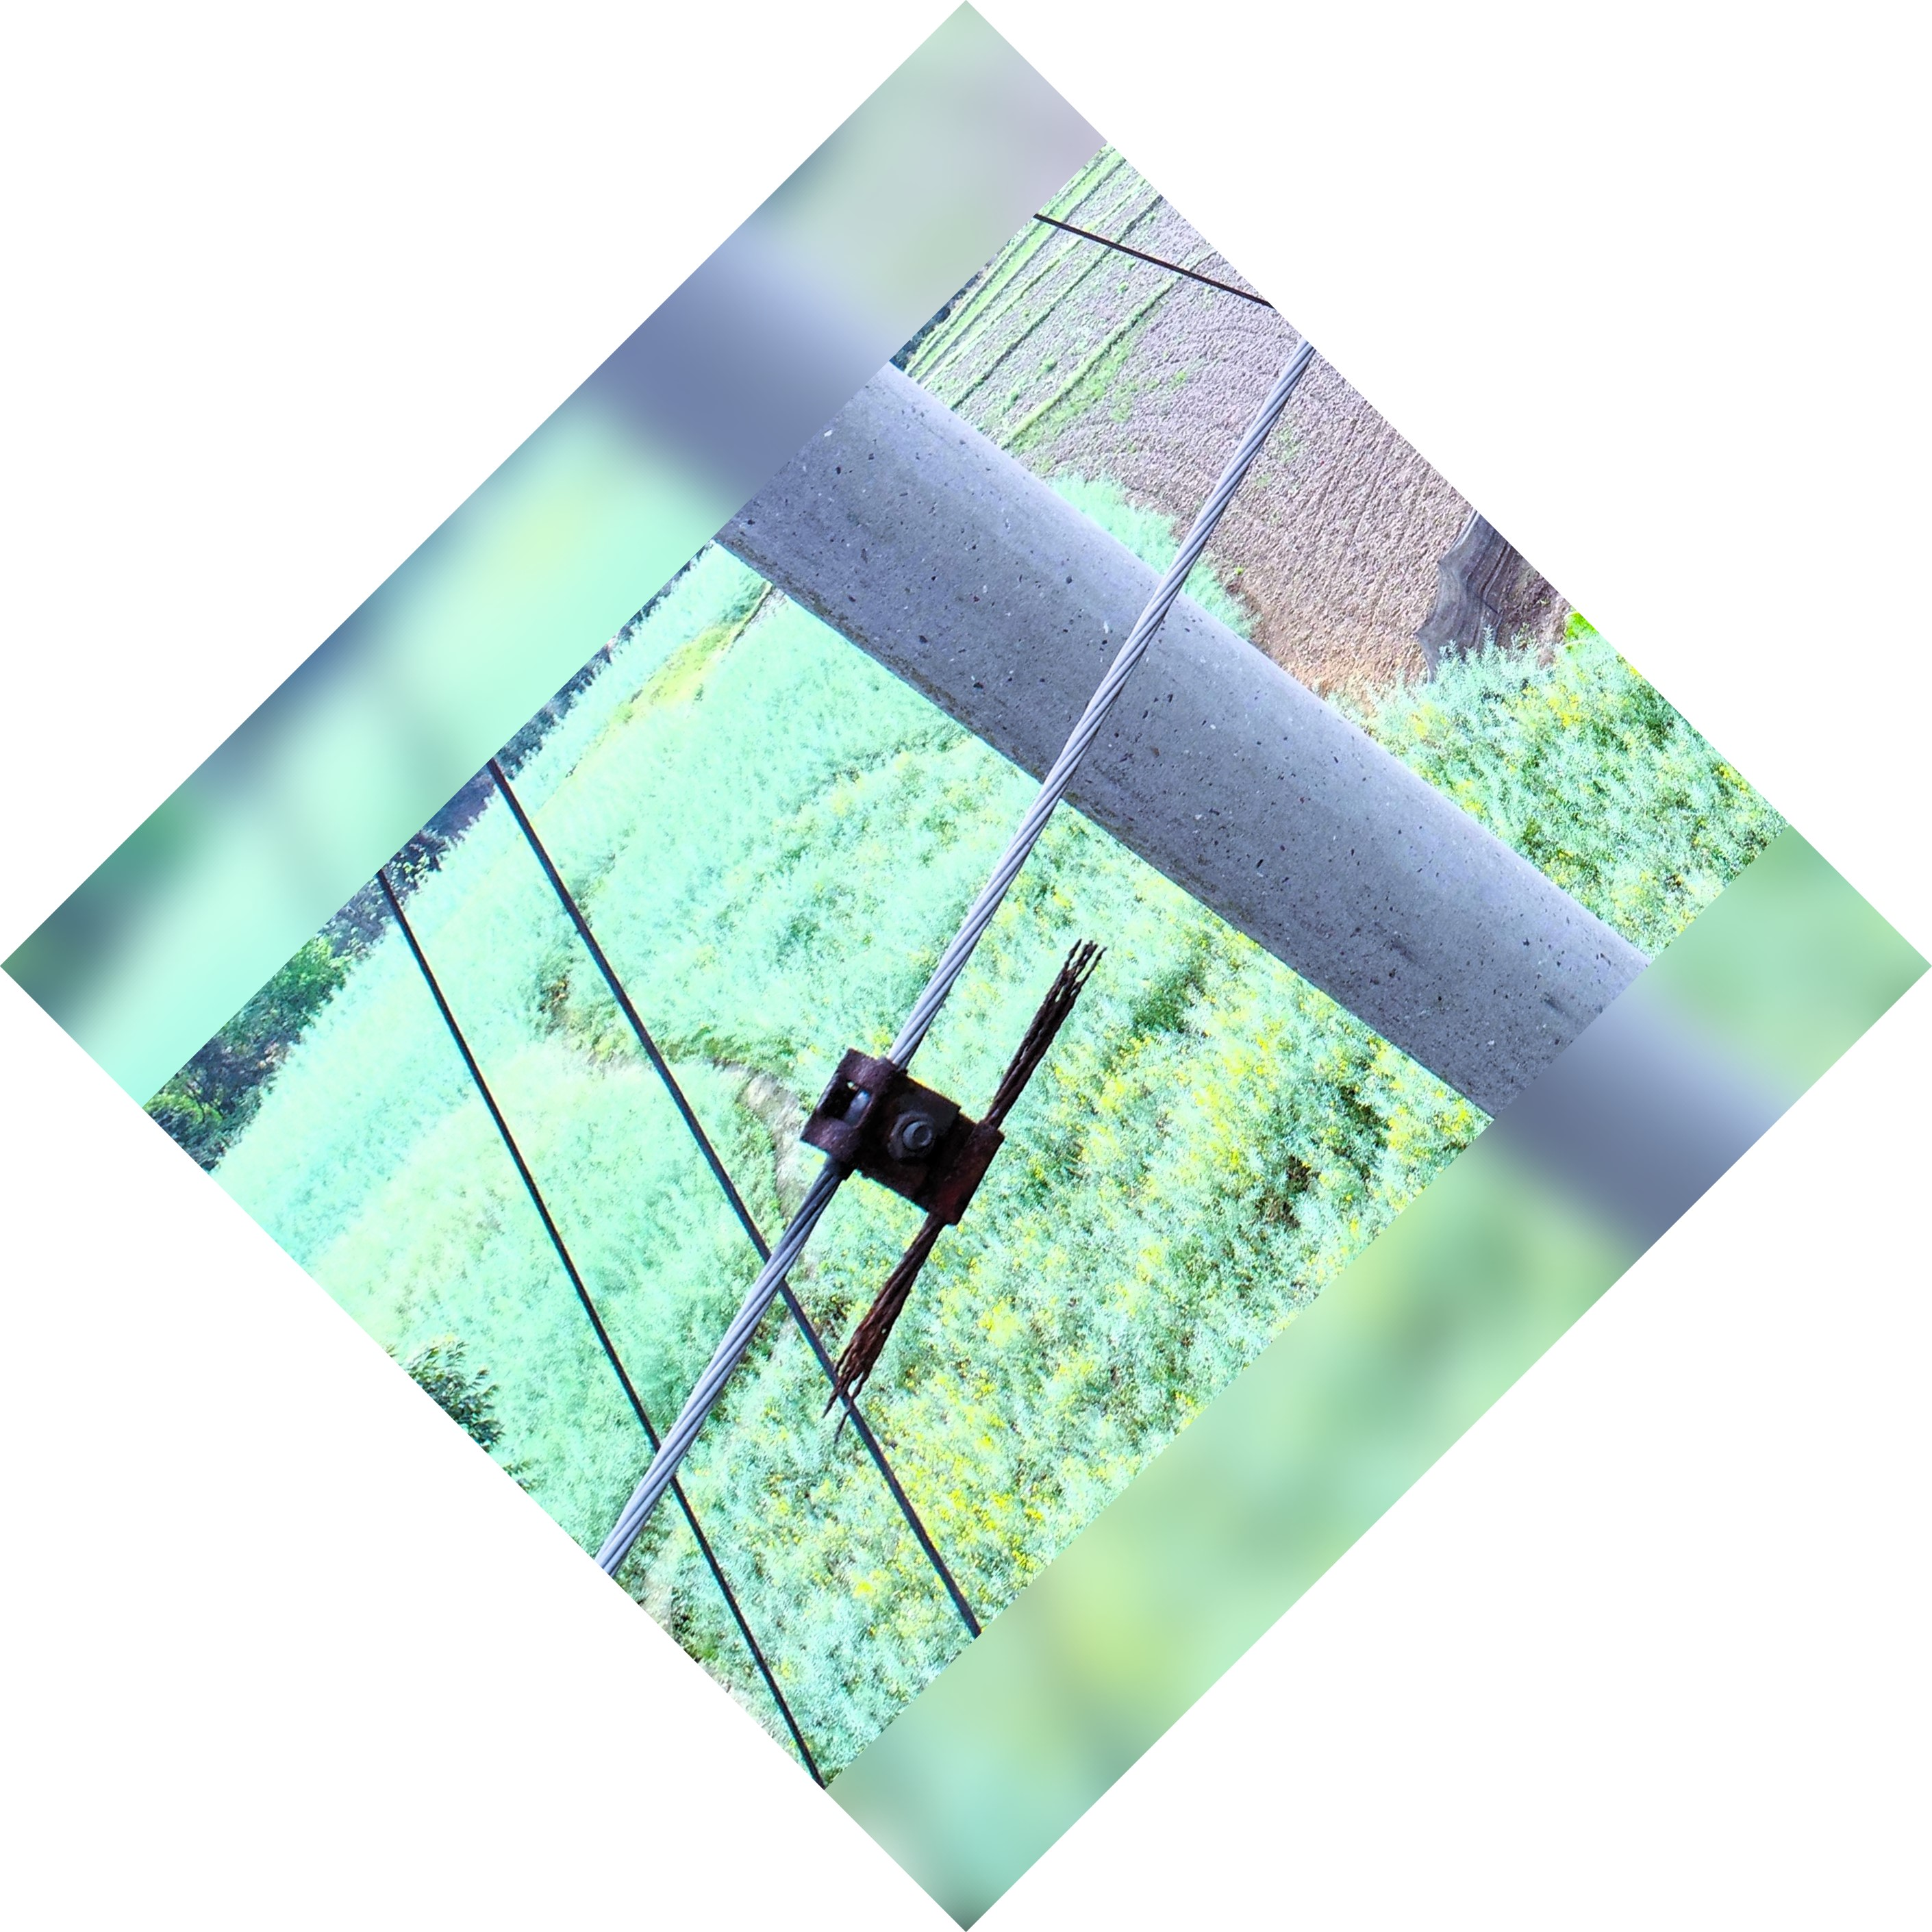Damage of shockproof hammer: (764, 908, 1154, 1433)
